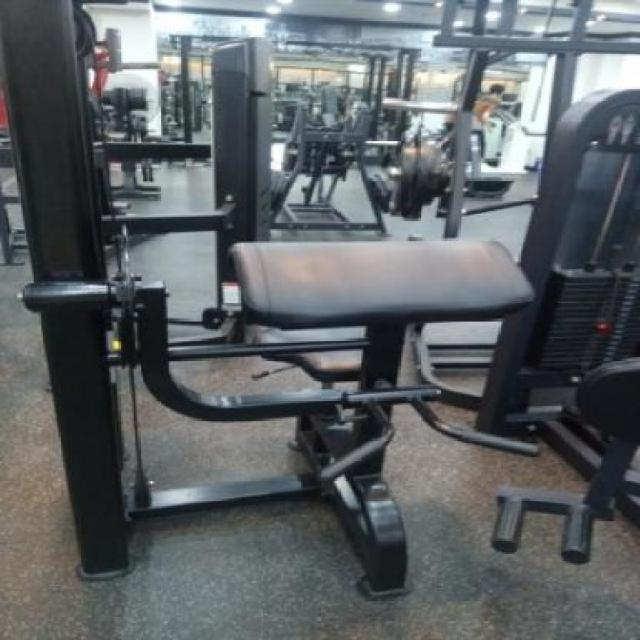arm curl machine: (28, 238, 546, 602)
